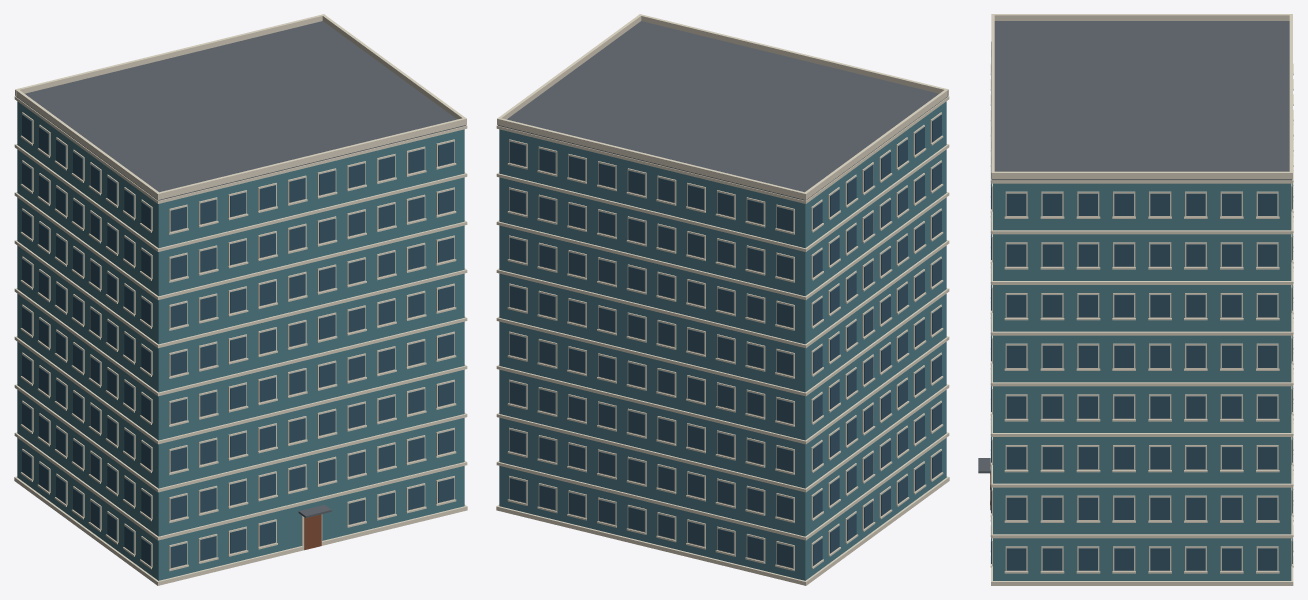
The model's file is 05-maximum.glb.
3 views of the same model, side by side, from view 1: azimuth 30°, elevation 25°; view 2: azimuth 150°, elevation 25°; view 3: azimuth 270°, elevation 25° (orthographic). The views are drawn at different scales.
Parts seen in each view (by area): view 1: 05-maximum; view 2: 05-maximum; view 3: 05-maximum.
Part boxes in pixels (left/top/right/bottom): 05-maximum: left=14, top=14, right=467, bottom=585; 05-maximum: left=496, top=14, right=949, bottom=585; 05-maximum: left=978, top=14, right=1293, bottom=585.
Size of the model in its own units: 20.26 by 24.44 by 16.92.
